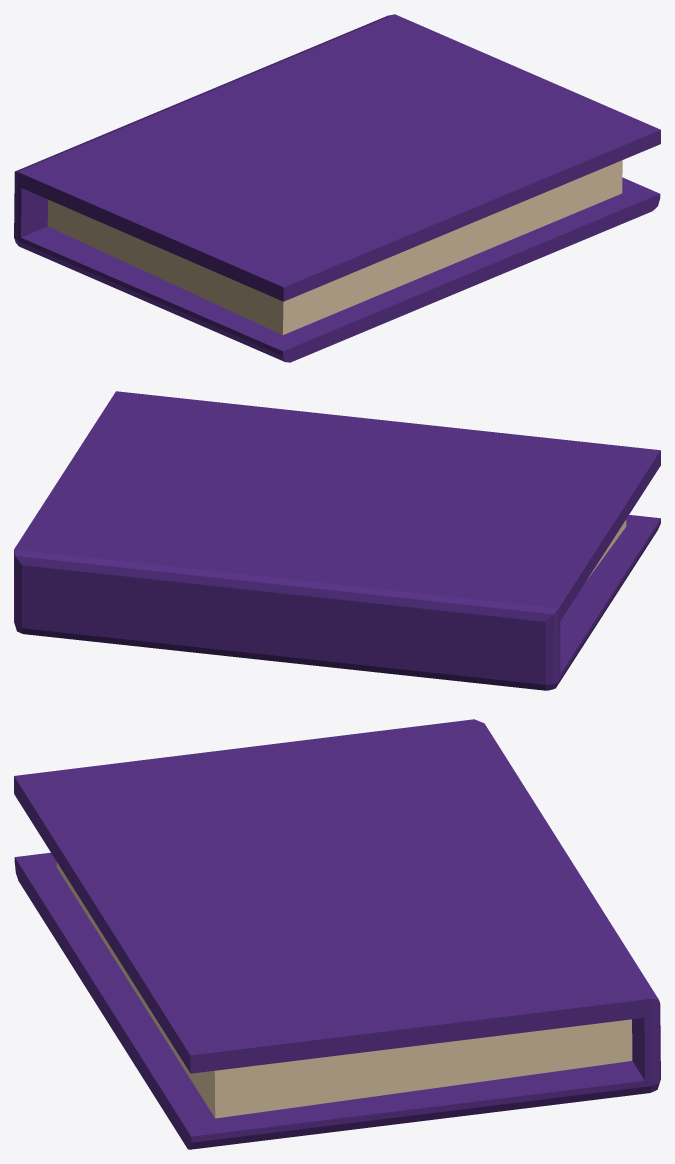
Rendered from BookPurple.fbx.
The picture shows the model from 3 angles, top to bottom: view 1: azimuth 30°, elevation 25°; view 2: azimuth 150°, elevation 25°; view 3: azimuth 270°, elevation 25°; orthographic projection. The views are drawn at different scales.
Visible parts, largest first — view 1: Cube.016; view 2: Cube.016; view 3: Cube.016.
Part boxes in pixels (box(x1,y1,x2,y2)): Cube.016: box(14, 14, 660, 362); Cube.016: box(14, 391, 660, 690); Cube.016: box(14, 719, 660, 1149).
Bounding box in the file's own units: 89.34 × 13.5 × 74.16.
